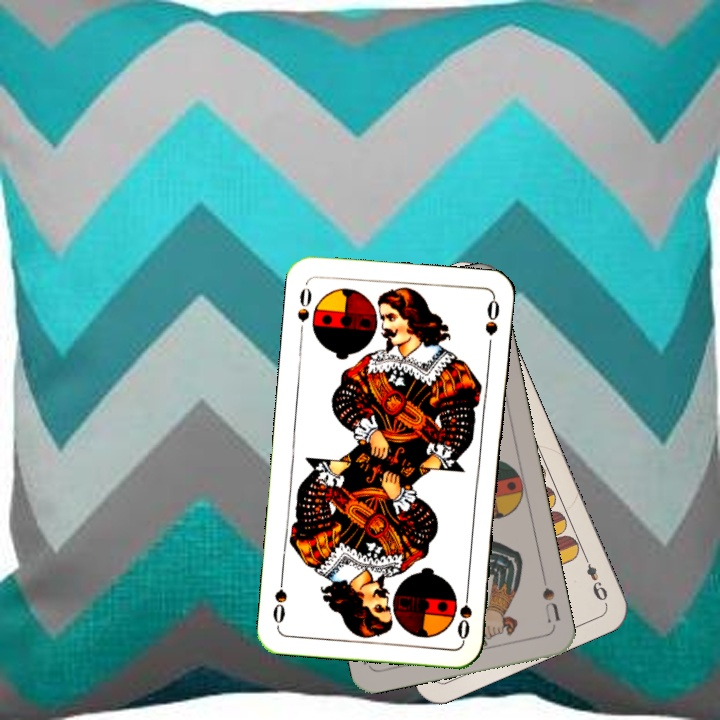E9: (579, 550, 611, 606)
SO: (453, 584, 475, 643), (293, 280, 315, 339)
SU: (538, 571, 563, 626)
